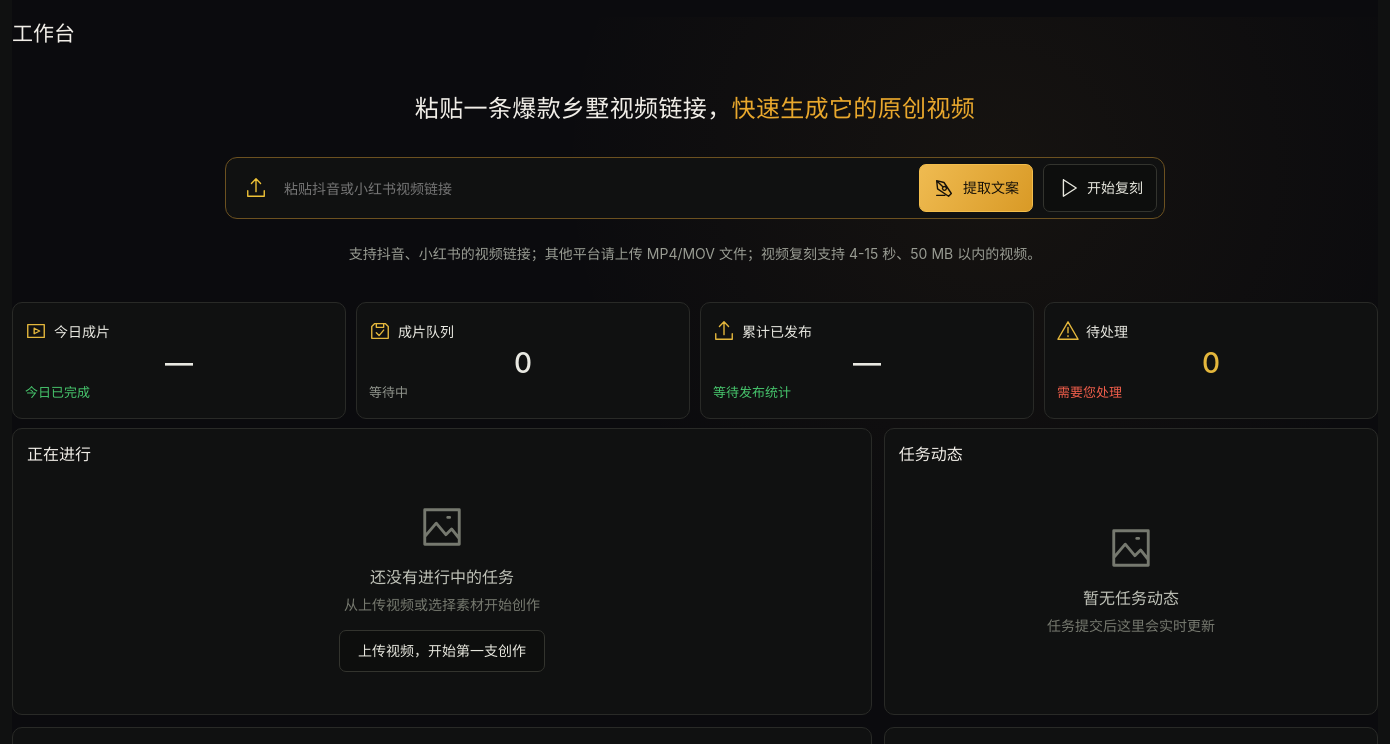
Test: V1.4 工作台上传与创作入口 › 链接失败显示上传回退且不创建导入任务：视频链接已过期，请重新复制链接或上传 MP4/MOV 文件。
Type "https://channels.weixin.qq.com/example" into the field labelled "视频链接" at (596, 188), box [284,174,909,202]
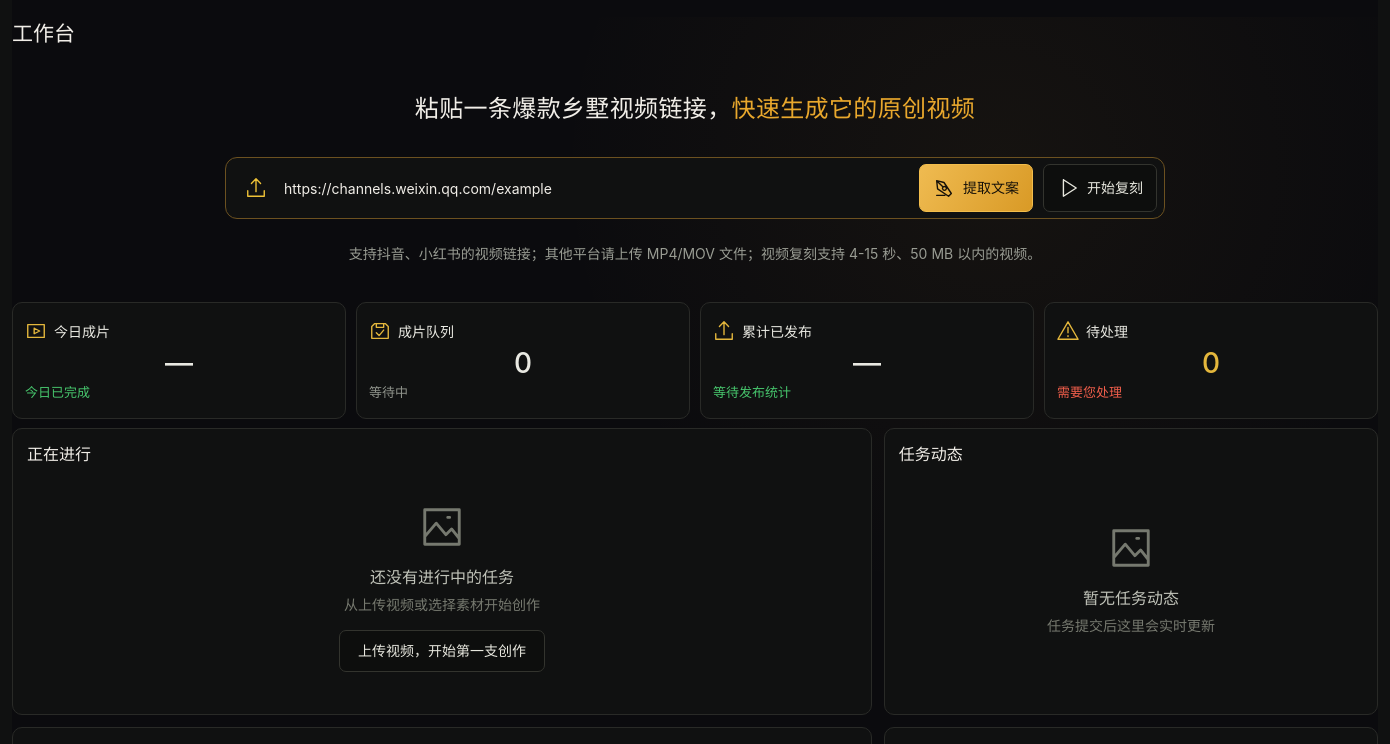
Click the button "开始复刻" at (1100, 188), box [1043,164,1157,212]
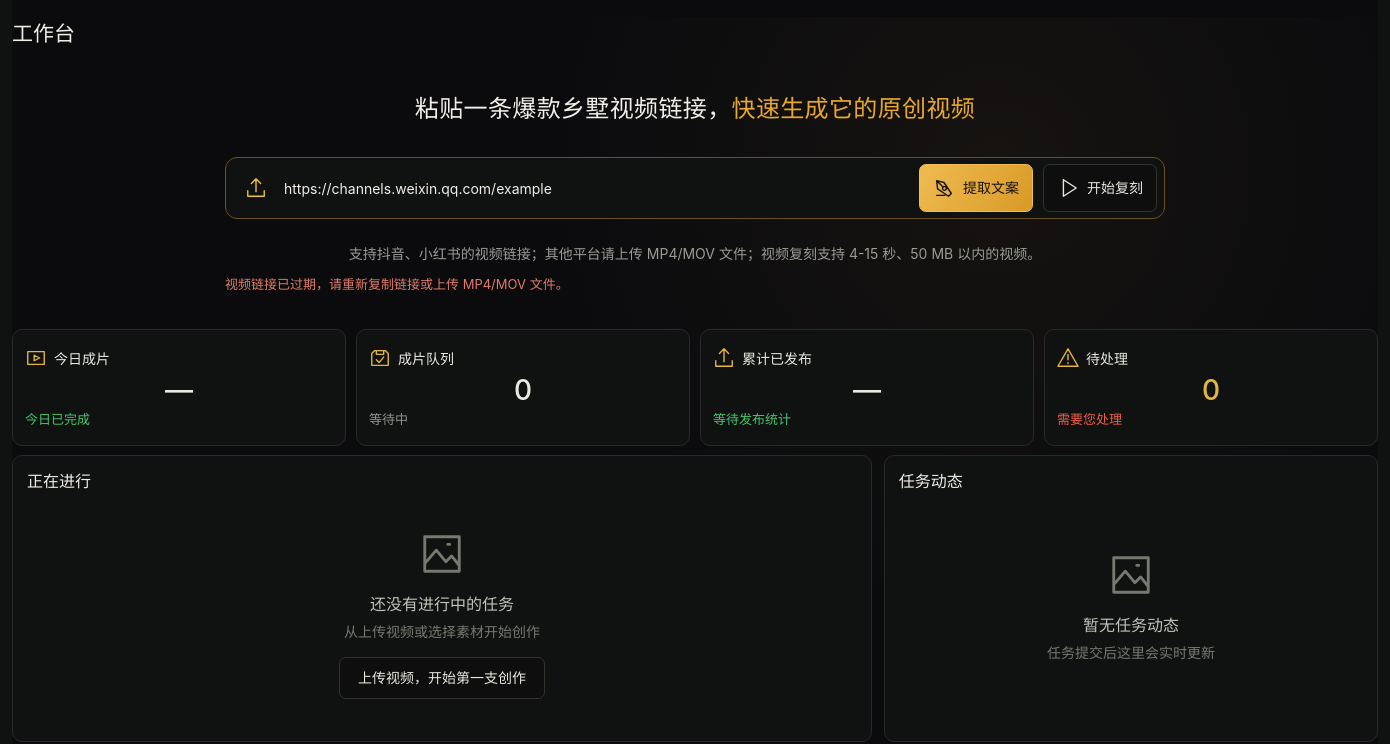
Check: the message reads "视频链接已过期，请重新复制链接或上传 MP4/MOV 文件。", box [225,276,569,292]
